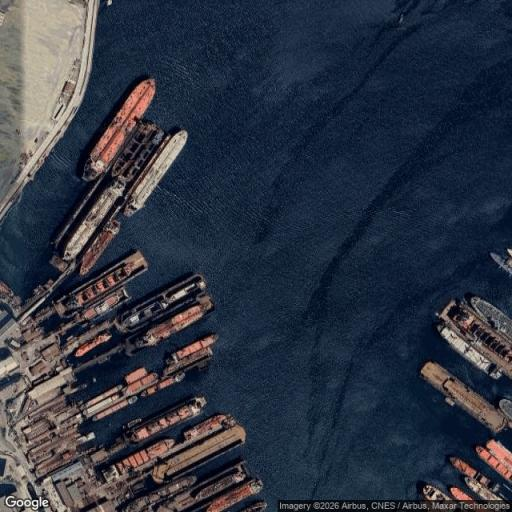ship: (84, 79, 155, 180), (420, 362, 507, 432), (55, 251, 147, 316), (152, 424, 245, 484), (440, 300, 511, 378), (124, 131, 187, 215), (63, 178, 126, 261), (116, 275, 206, 331), (136, 295, 214, 347), (437, 324, 502, 379), (130, 397, 206, 443), (112, 120, 164, 181), (104, 439, 175, 481), (123, 476, 196, 511), (164, 334, 217, 375), (80, 220, 119, 275), (206, 479, 263, 511), (76, 288, 129, 322), (470, 296, 511, 339), (450, 457, 499, 491), (192, 471, 245, 500), (184, 415, 235, 440), (476, 446, 511, 481), (92, 396, 137, 420), (141, 372, 184, 396), (84, 385, 122, 410), (75, 332, 111, 357), (465, 477, 503, 500), (125, 372, 160, 395), (486, 440, 511, 470), (490, 249, 511, 275), (422, 484, 450, 500), (125, 366, 147, 384), (449, 486, 474, 500), (240, 501, 267, 511), (499, 399, 511, 419)
